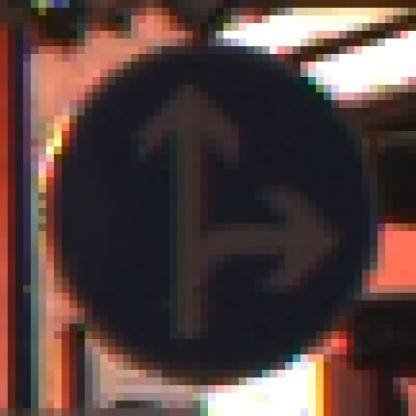Straight or Right: (40, 40, 379, 379)
